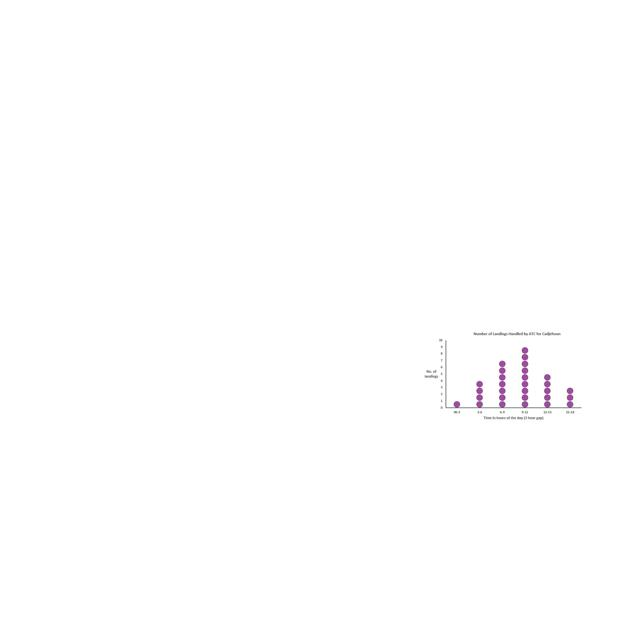Graph: (419, 328, 585, 424)
